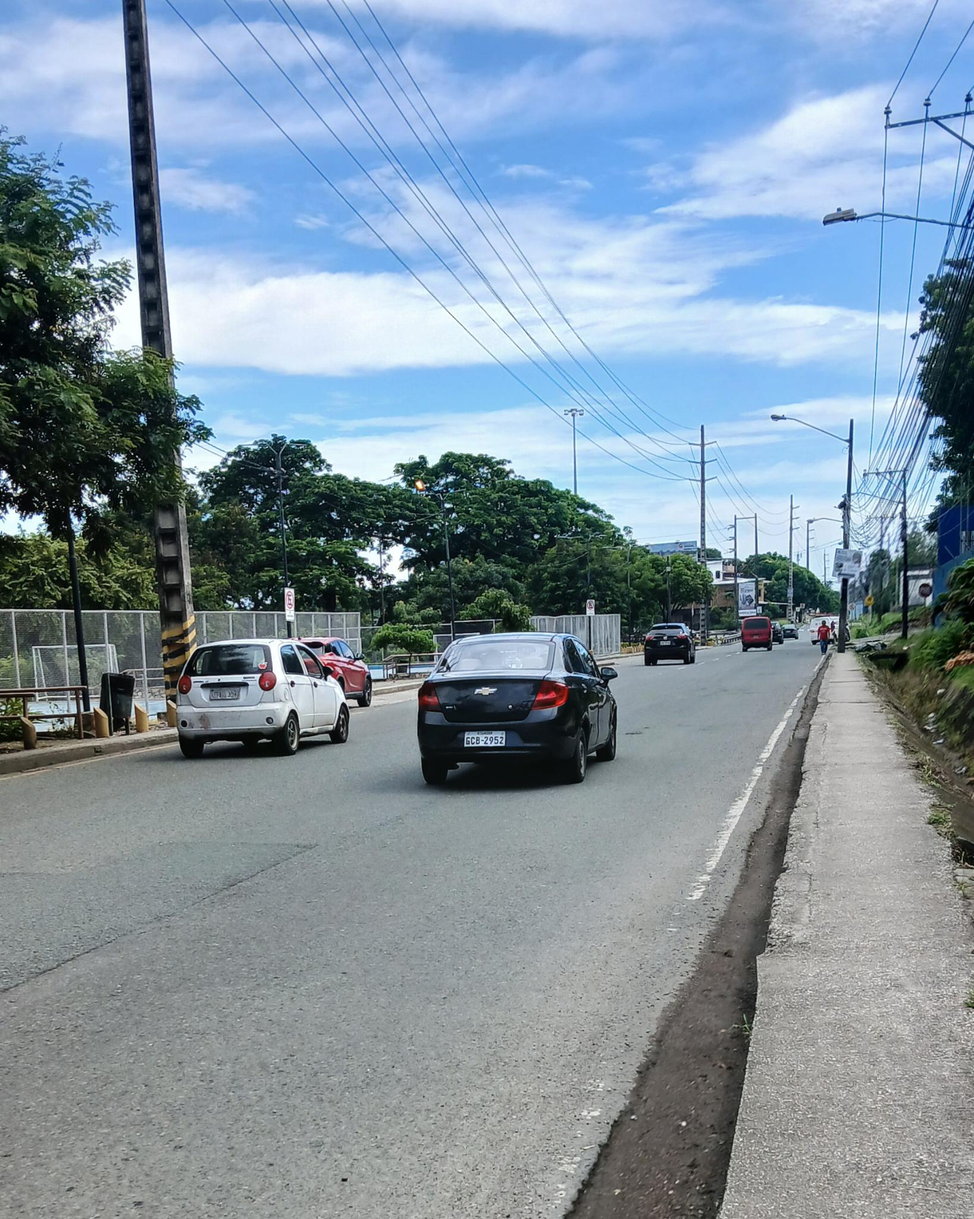license_plate: (463, 732, 506, 747), (207, 686, 244, 700), (659, 640, 671, 645)
